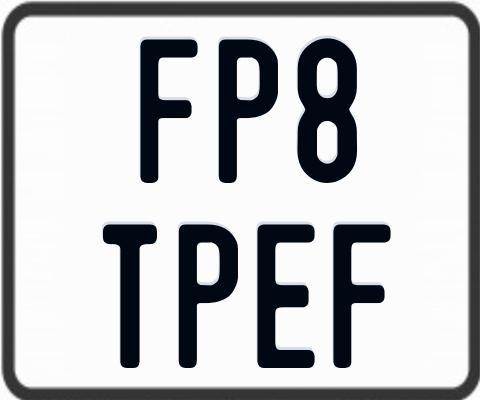8: (296, 38, 356, 187)
E: (254, 224, 313, 371)
F: (330, 223, 393, 367), (139, 37, 197, 186)
P: (219, 38, 283, 182), (179, 223, 239, 370)
T: (100, 221, 154, 370)
